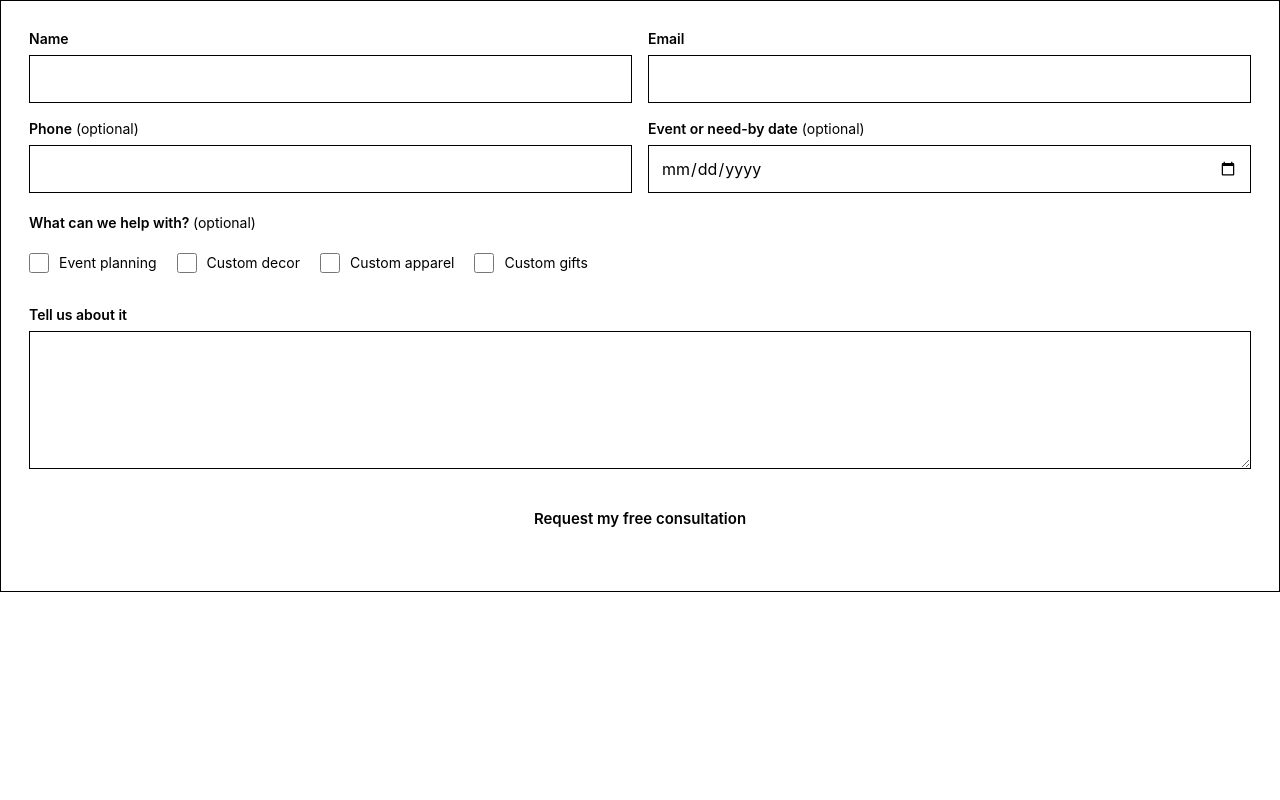
Scenario: ContactForm (FORM_UI) › catches an address the server would reject (maria@email) before sending
The image size is (1280, 800).
Type "Maria Lopez" into the field labelled "Name" at (330, 79), box [29, 55, 632, 103]
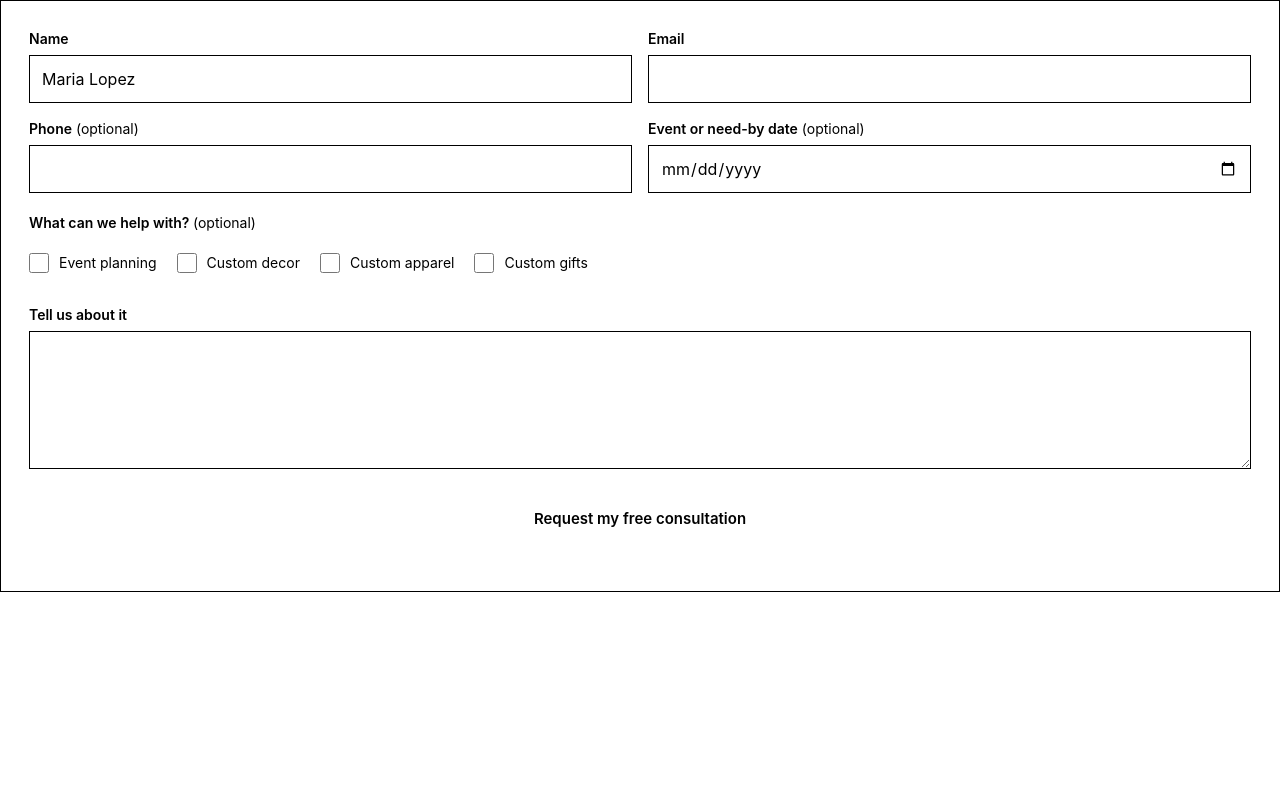
Type "maria@example.com" into the field labelled "Email" at (950, 79), box [648, 55, 1251, 103]
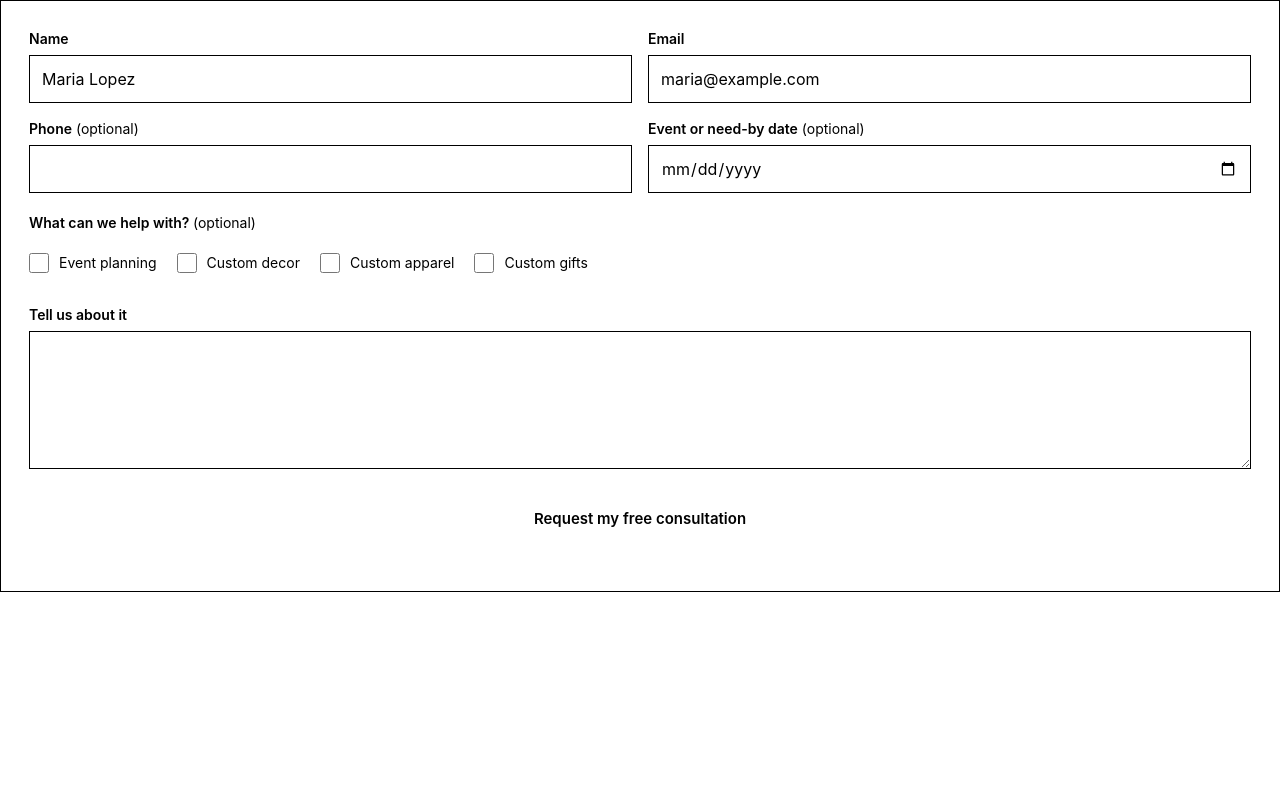
Type "Quinceañera in June, about 120 guests." into the text box labelled "Tell us about it" at (640, 400), box [29, 331, 1251, 469]
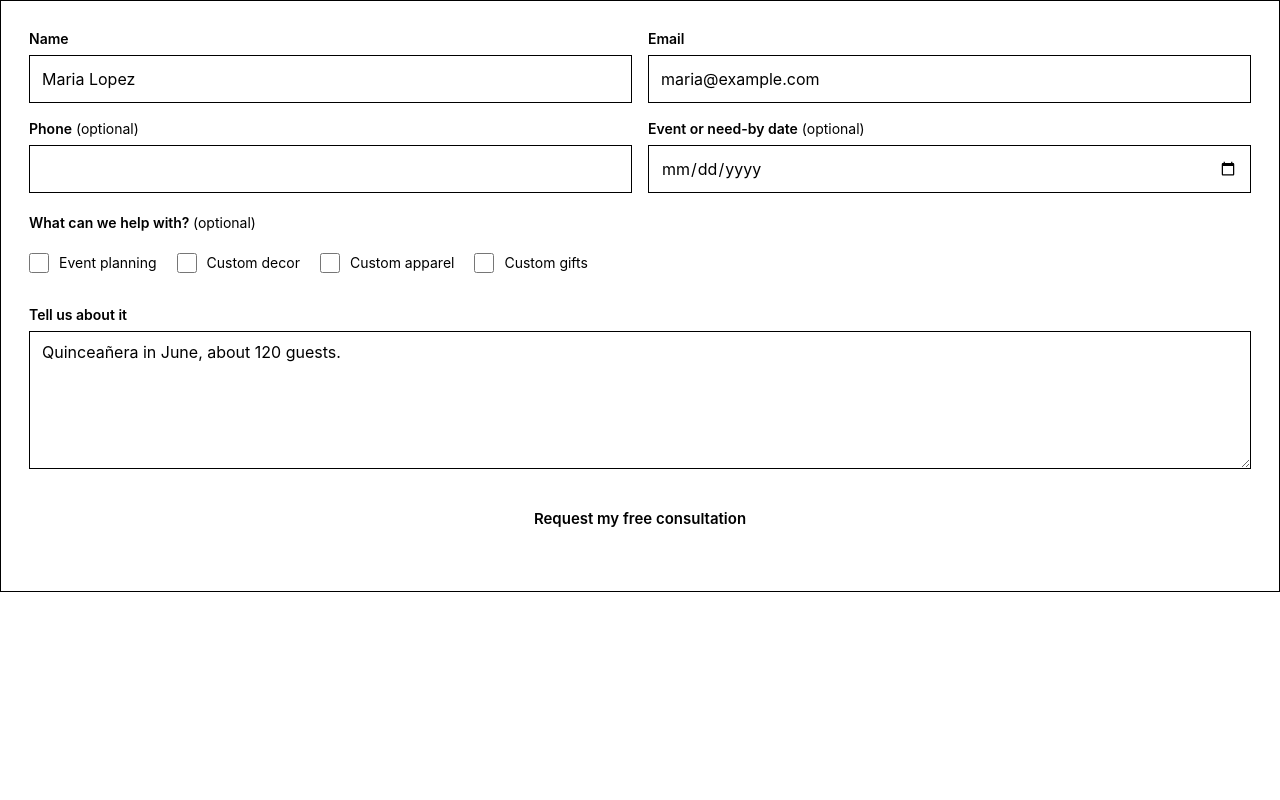
Replace the text in the field labelled "Email" with "maria@email" at (950, 79), box [648, 55, 1251, 103]
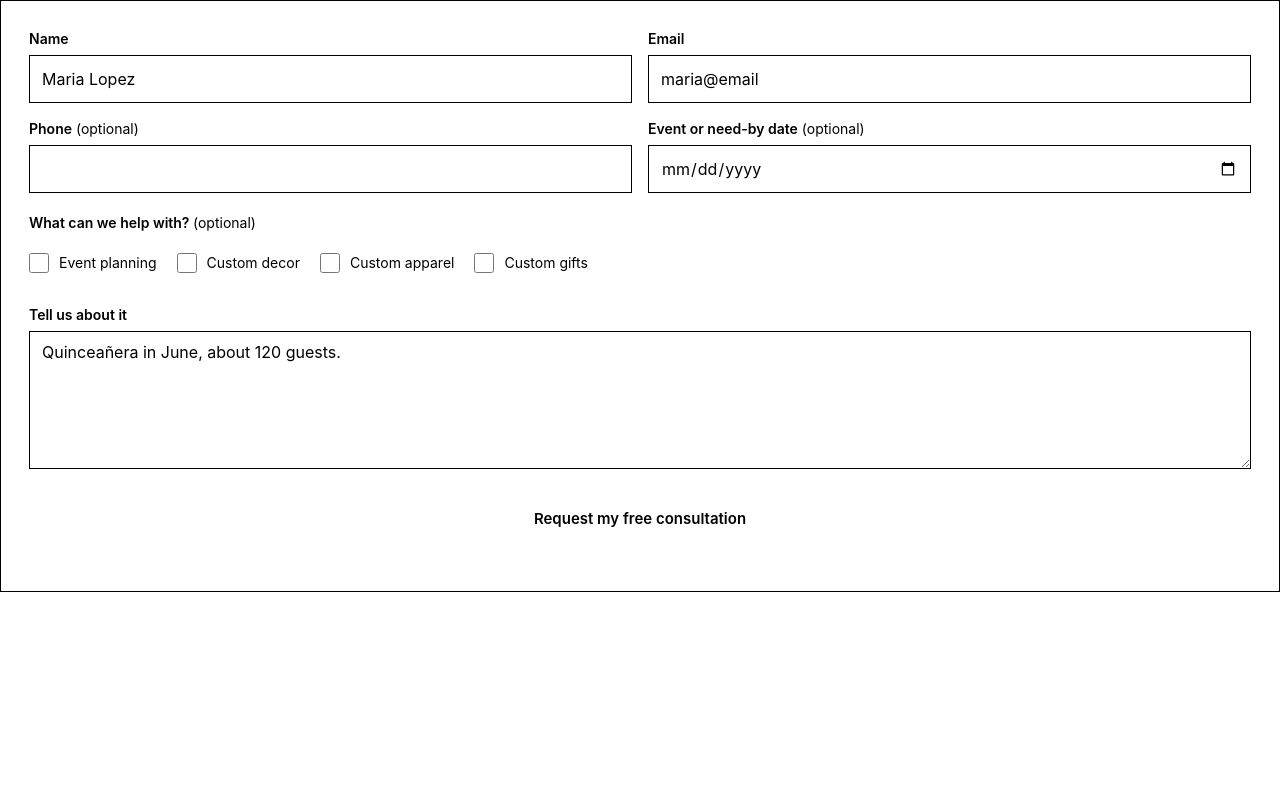
Click the button "Request my free consultation" at (640, 519), box [29, 495, 1251, 543]
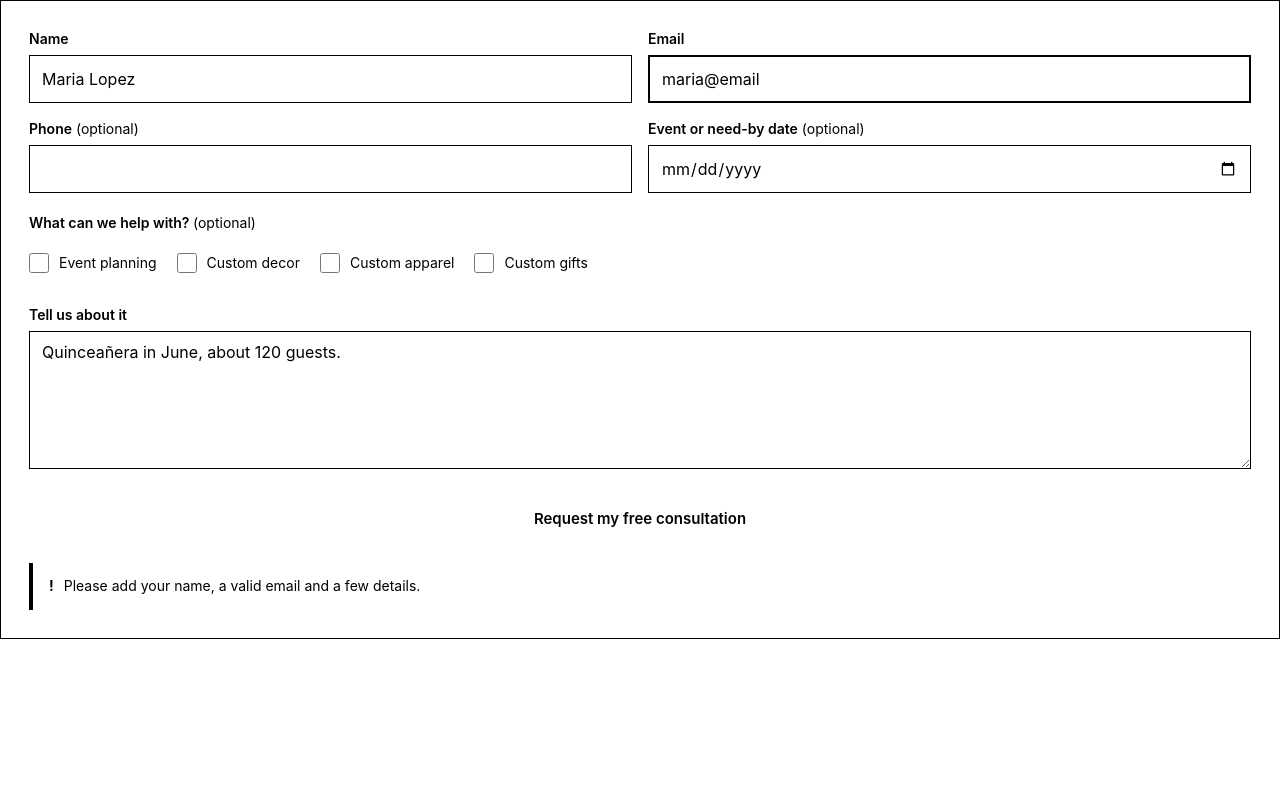
Result: the message shows "Please add your name, a valid email and a few details." at [64, 577, 420, 594]
